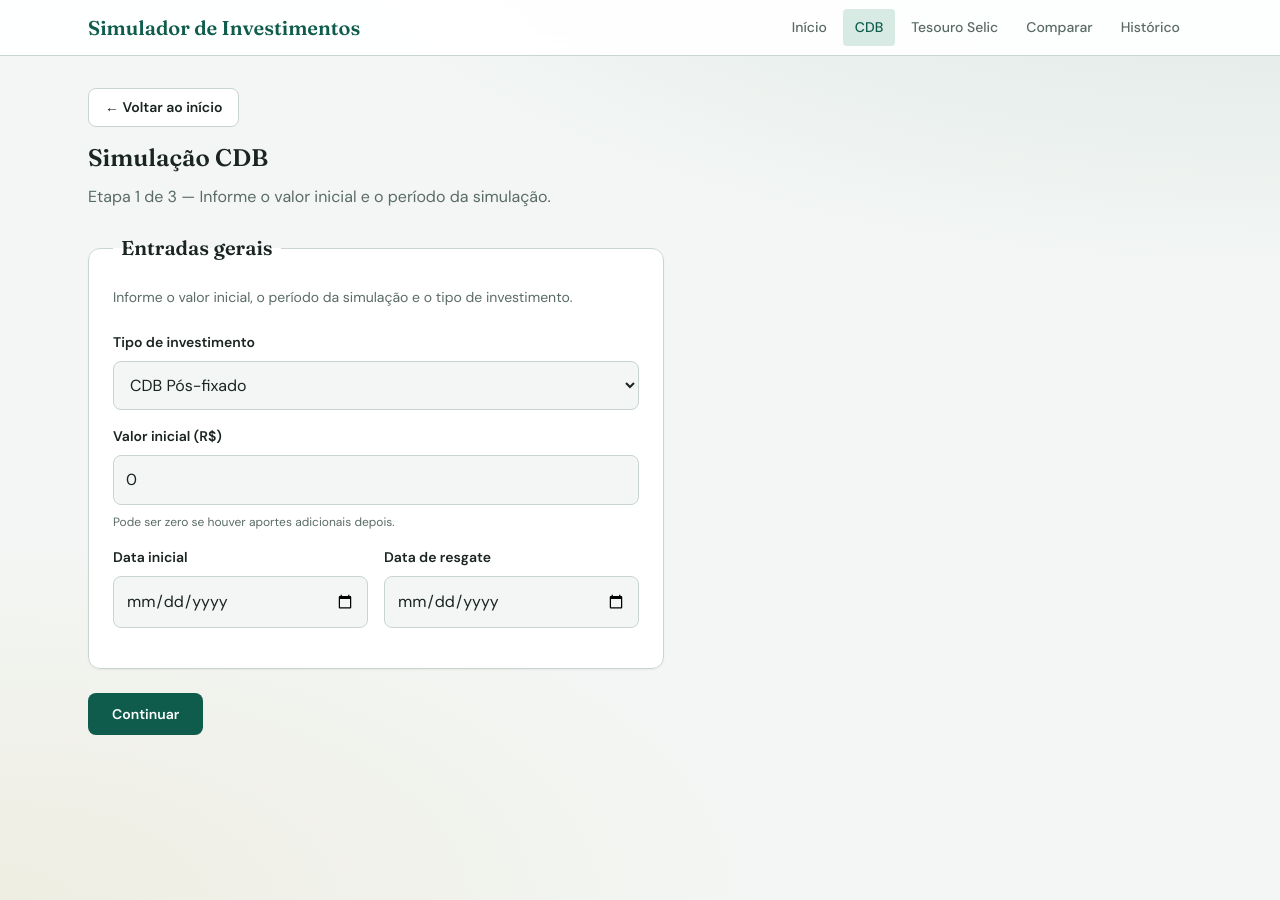
Scenario: simulation wizard steps › navigates to contributions after continuing from general inputs
The width and height of the screenshot is (1280, 900).
Replace the text in the field labelled "Valor inicial (R$)" with "10000" at (376, 480), box [113,455,639,505]
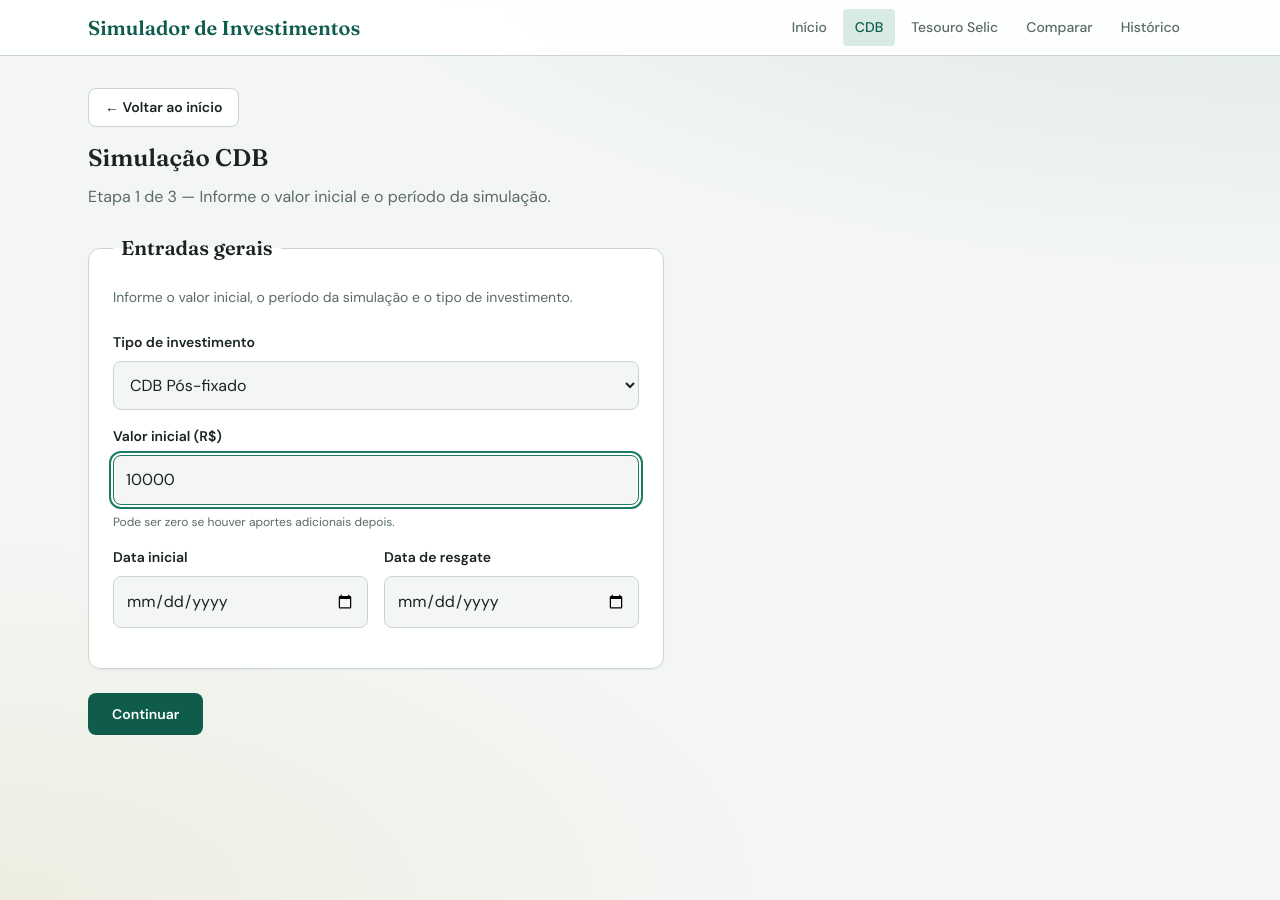
Type "2026-01-01" into the date field labelled "Data inicial" at (240, 602), box [113,576,368,628]
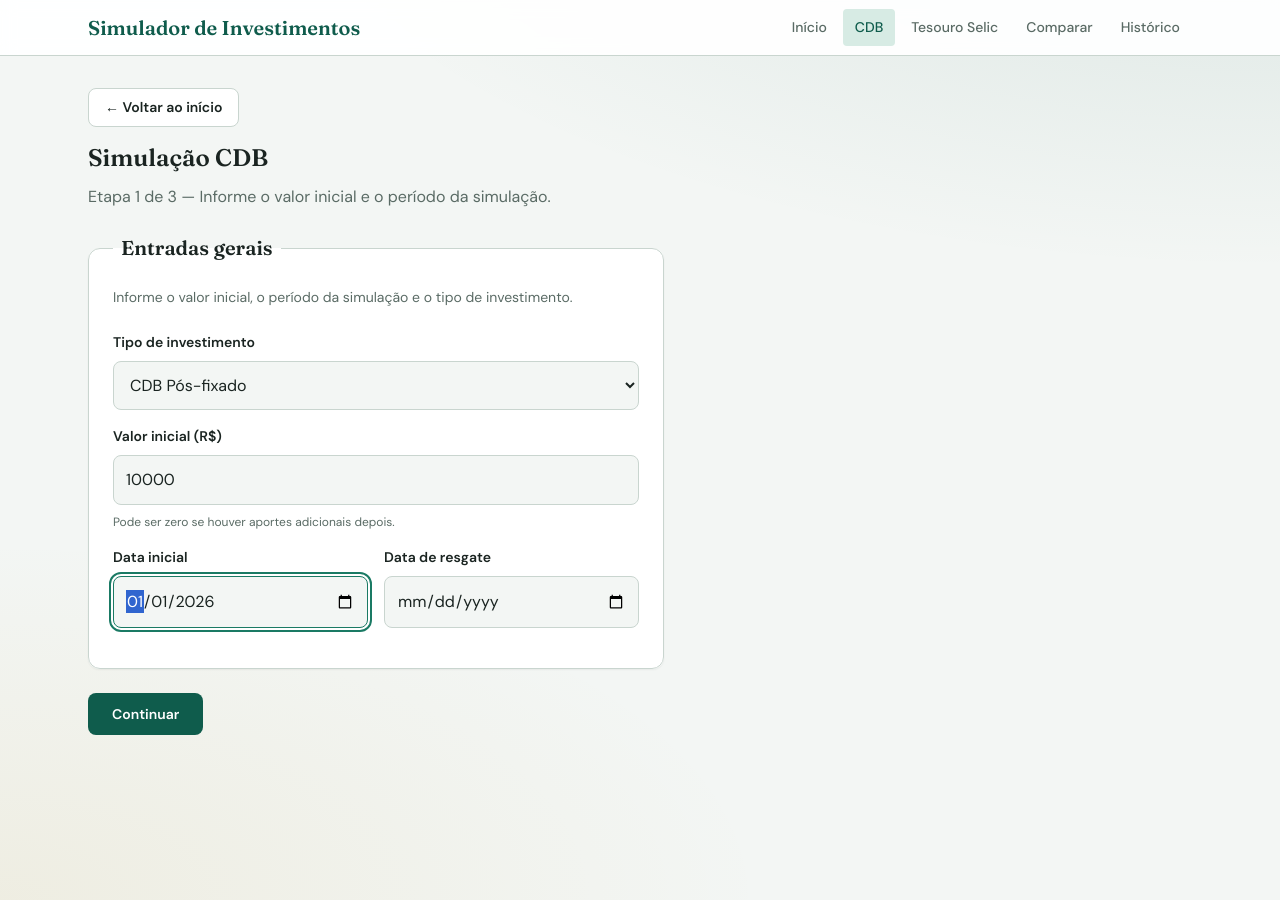
Type "2027-01-01" into the date field labelled "Data de resgate" at (512, 602), box [384,576,639,628]
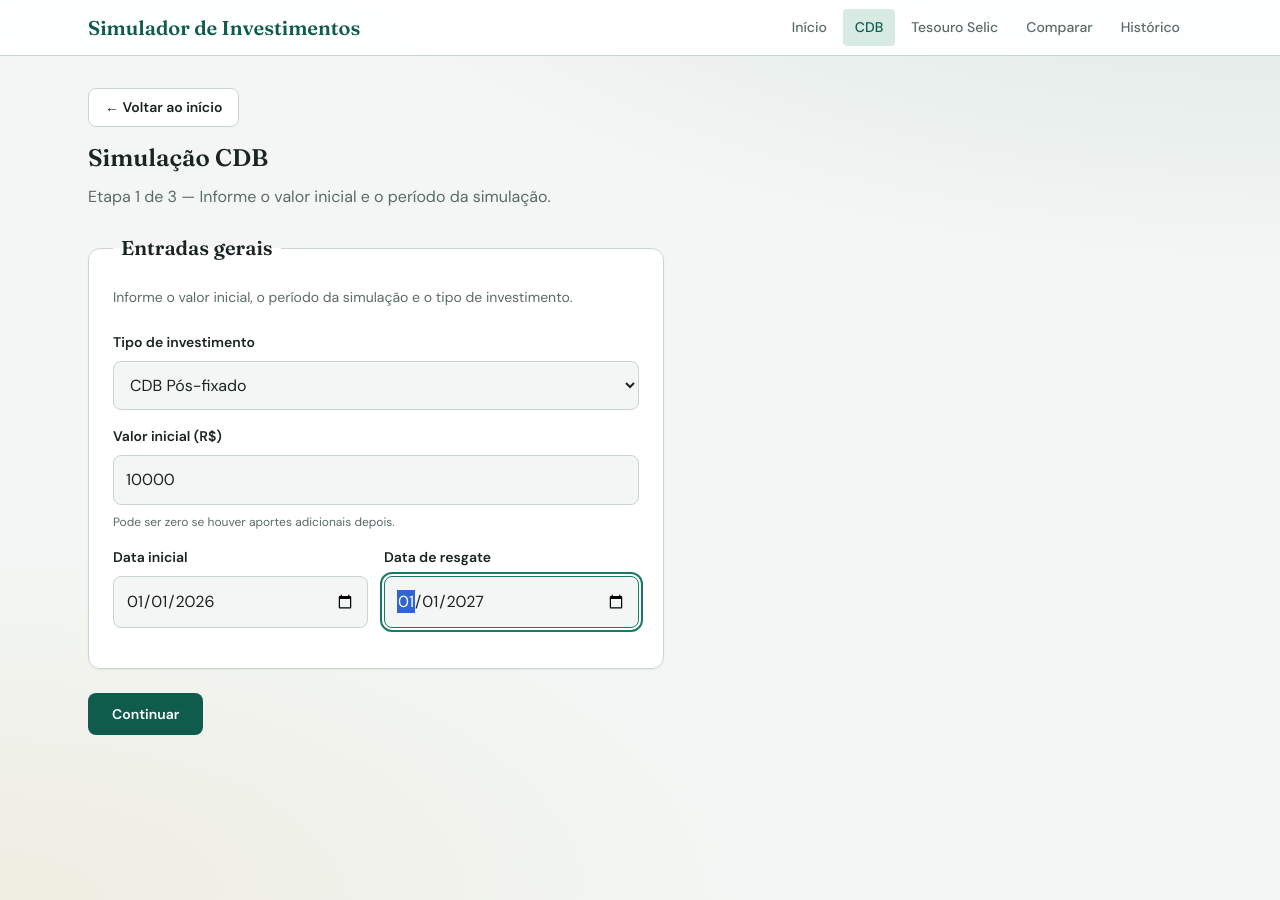
Click the button "Continuar" at (146, 714), box [88,693,203,735]
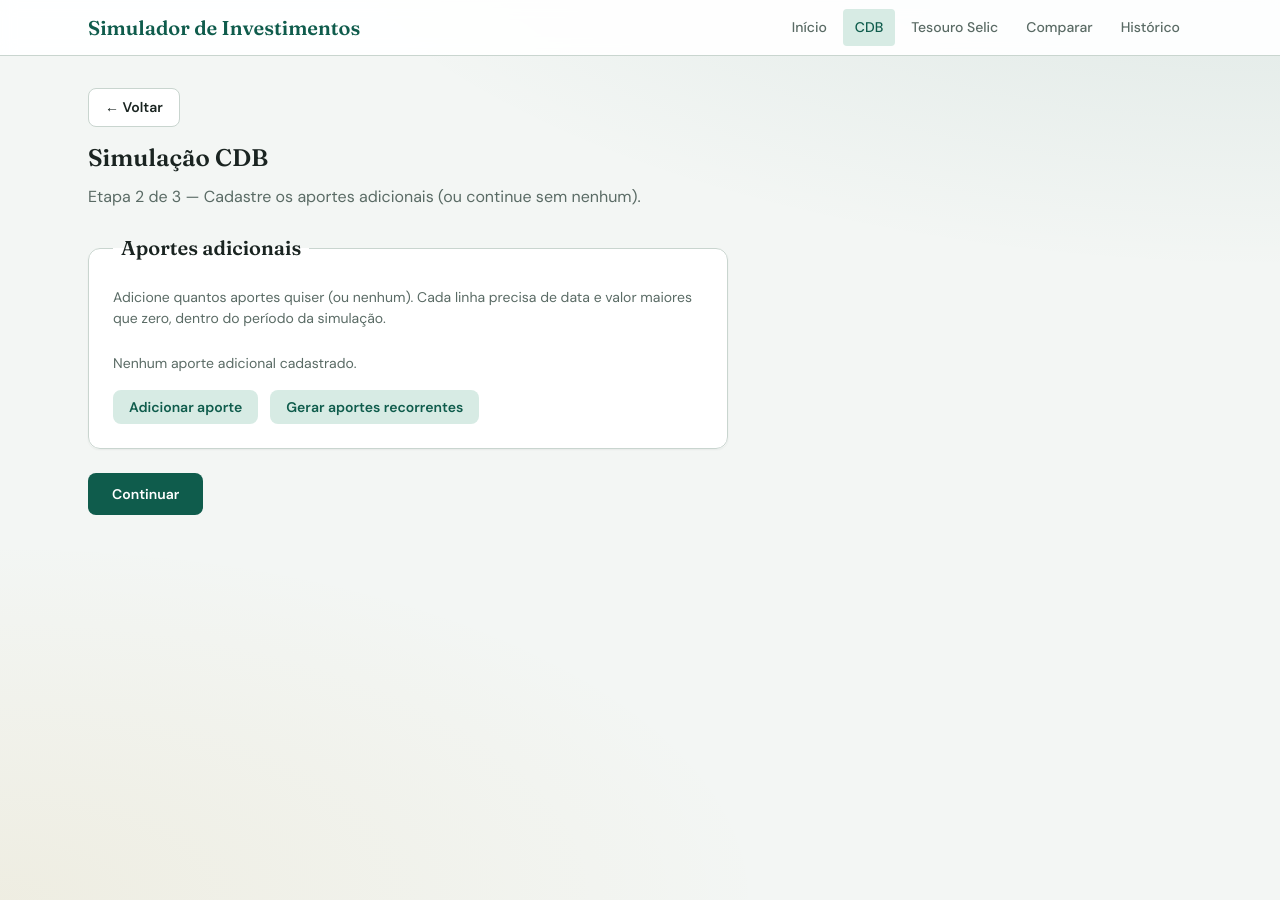
Now the element "Aportes adicionais" is shown, box [88,233,728,449]
Now the text "Entradas gerais" is gone
Now the text "Etapa 2 de 3" is shown, box [88,186,641,207]
